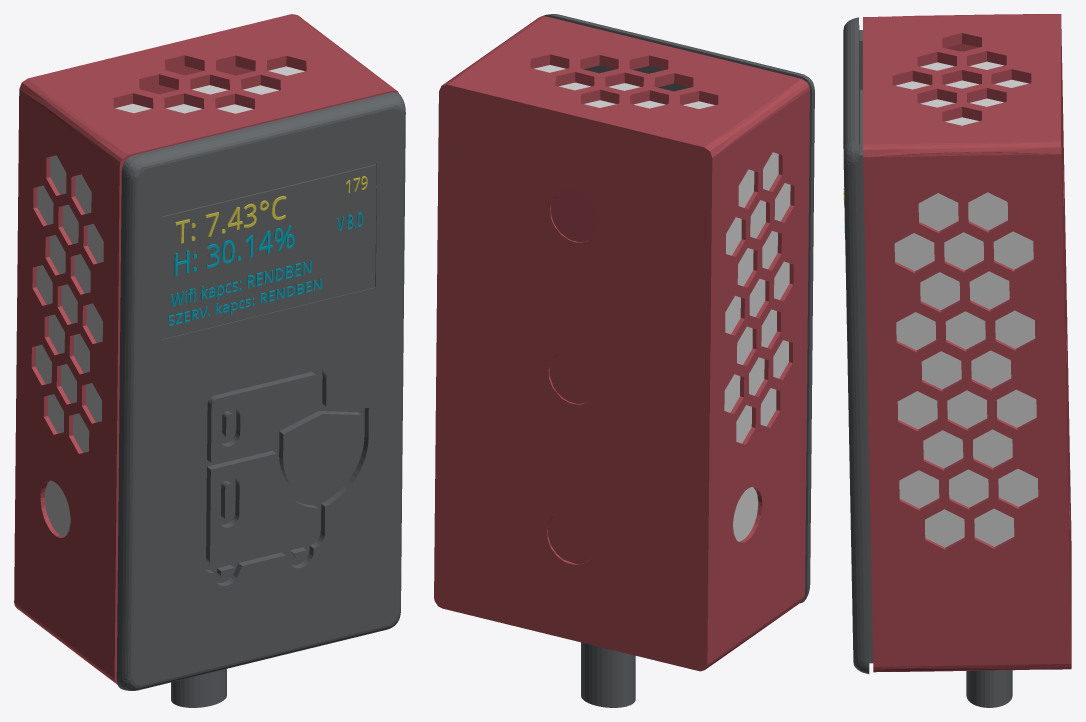
Rendered from piros_fekete.glb.
The picture shows the model from 3 angles, left to right: view 1: azimuth 30°, elevation 25°; view 2: azimuth 150°, elevation 25°; view 3: azimuth 270°, elevation 25°; orthographic projection. The views are drawn at different scales.
Parts seen in each view (by area): view 1: Mesh_Mesh_head_geo.001_lambert2SG.001; view 2: Mesh_Mesh_head_geo.001_lambert2SG.001; view 3: Mesh_Mesh_head_geo.001_lambert2SG.001.
Part boxes in pixels (left/top/right/bottom): Mesh_Mesh_head_geo.001_lambert2SG.001: left=14, top=14, right=405, bottom=707; Mesh_Mesh_head_geo.001_lambert2SG.001: left=434, top=14, right=814, bottom=707; Mesh_Mesh_head_geo.001_lambert2SG.001: left=843, top=14, right=1071, bottom=707.
Size of the model in its own units: 33 by 70.15 by 23.52.
